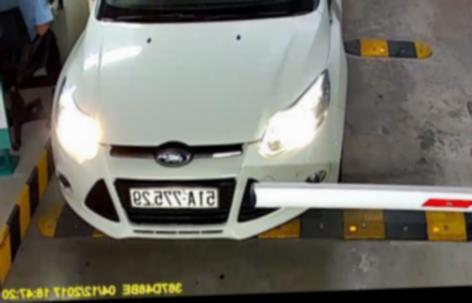License_Plate: (128, 183, 221, 212)
